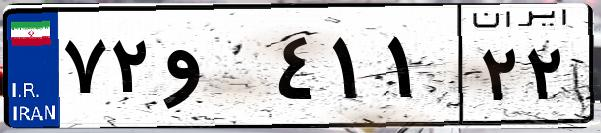1: (385, 28, 445, 110), (330, 28, 385, 110)
2: (475, 38, 525, 113), (525, 38, 570, 115), (110, 28, 158, 98)
4: (270, 28, 330, 110)
7: (57, 26, 110, 100)
و: (158, 20, 270, 120)
